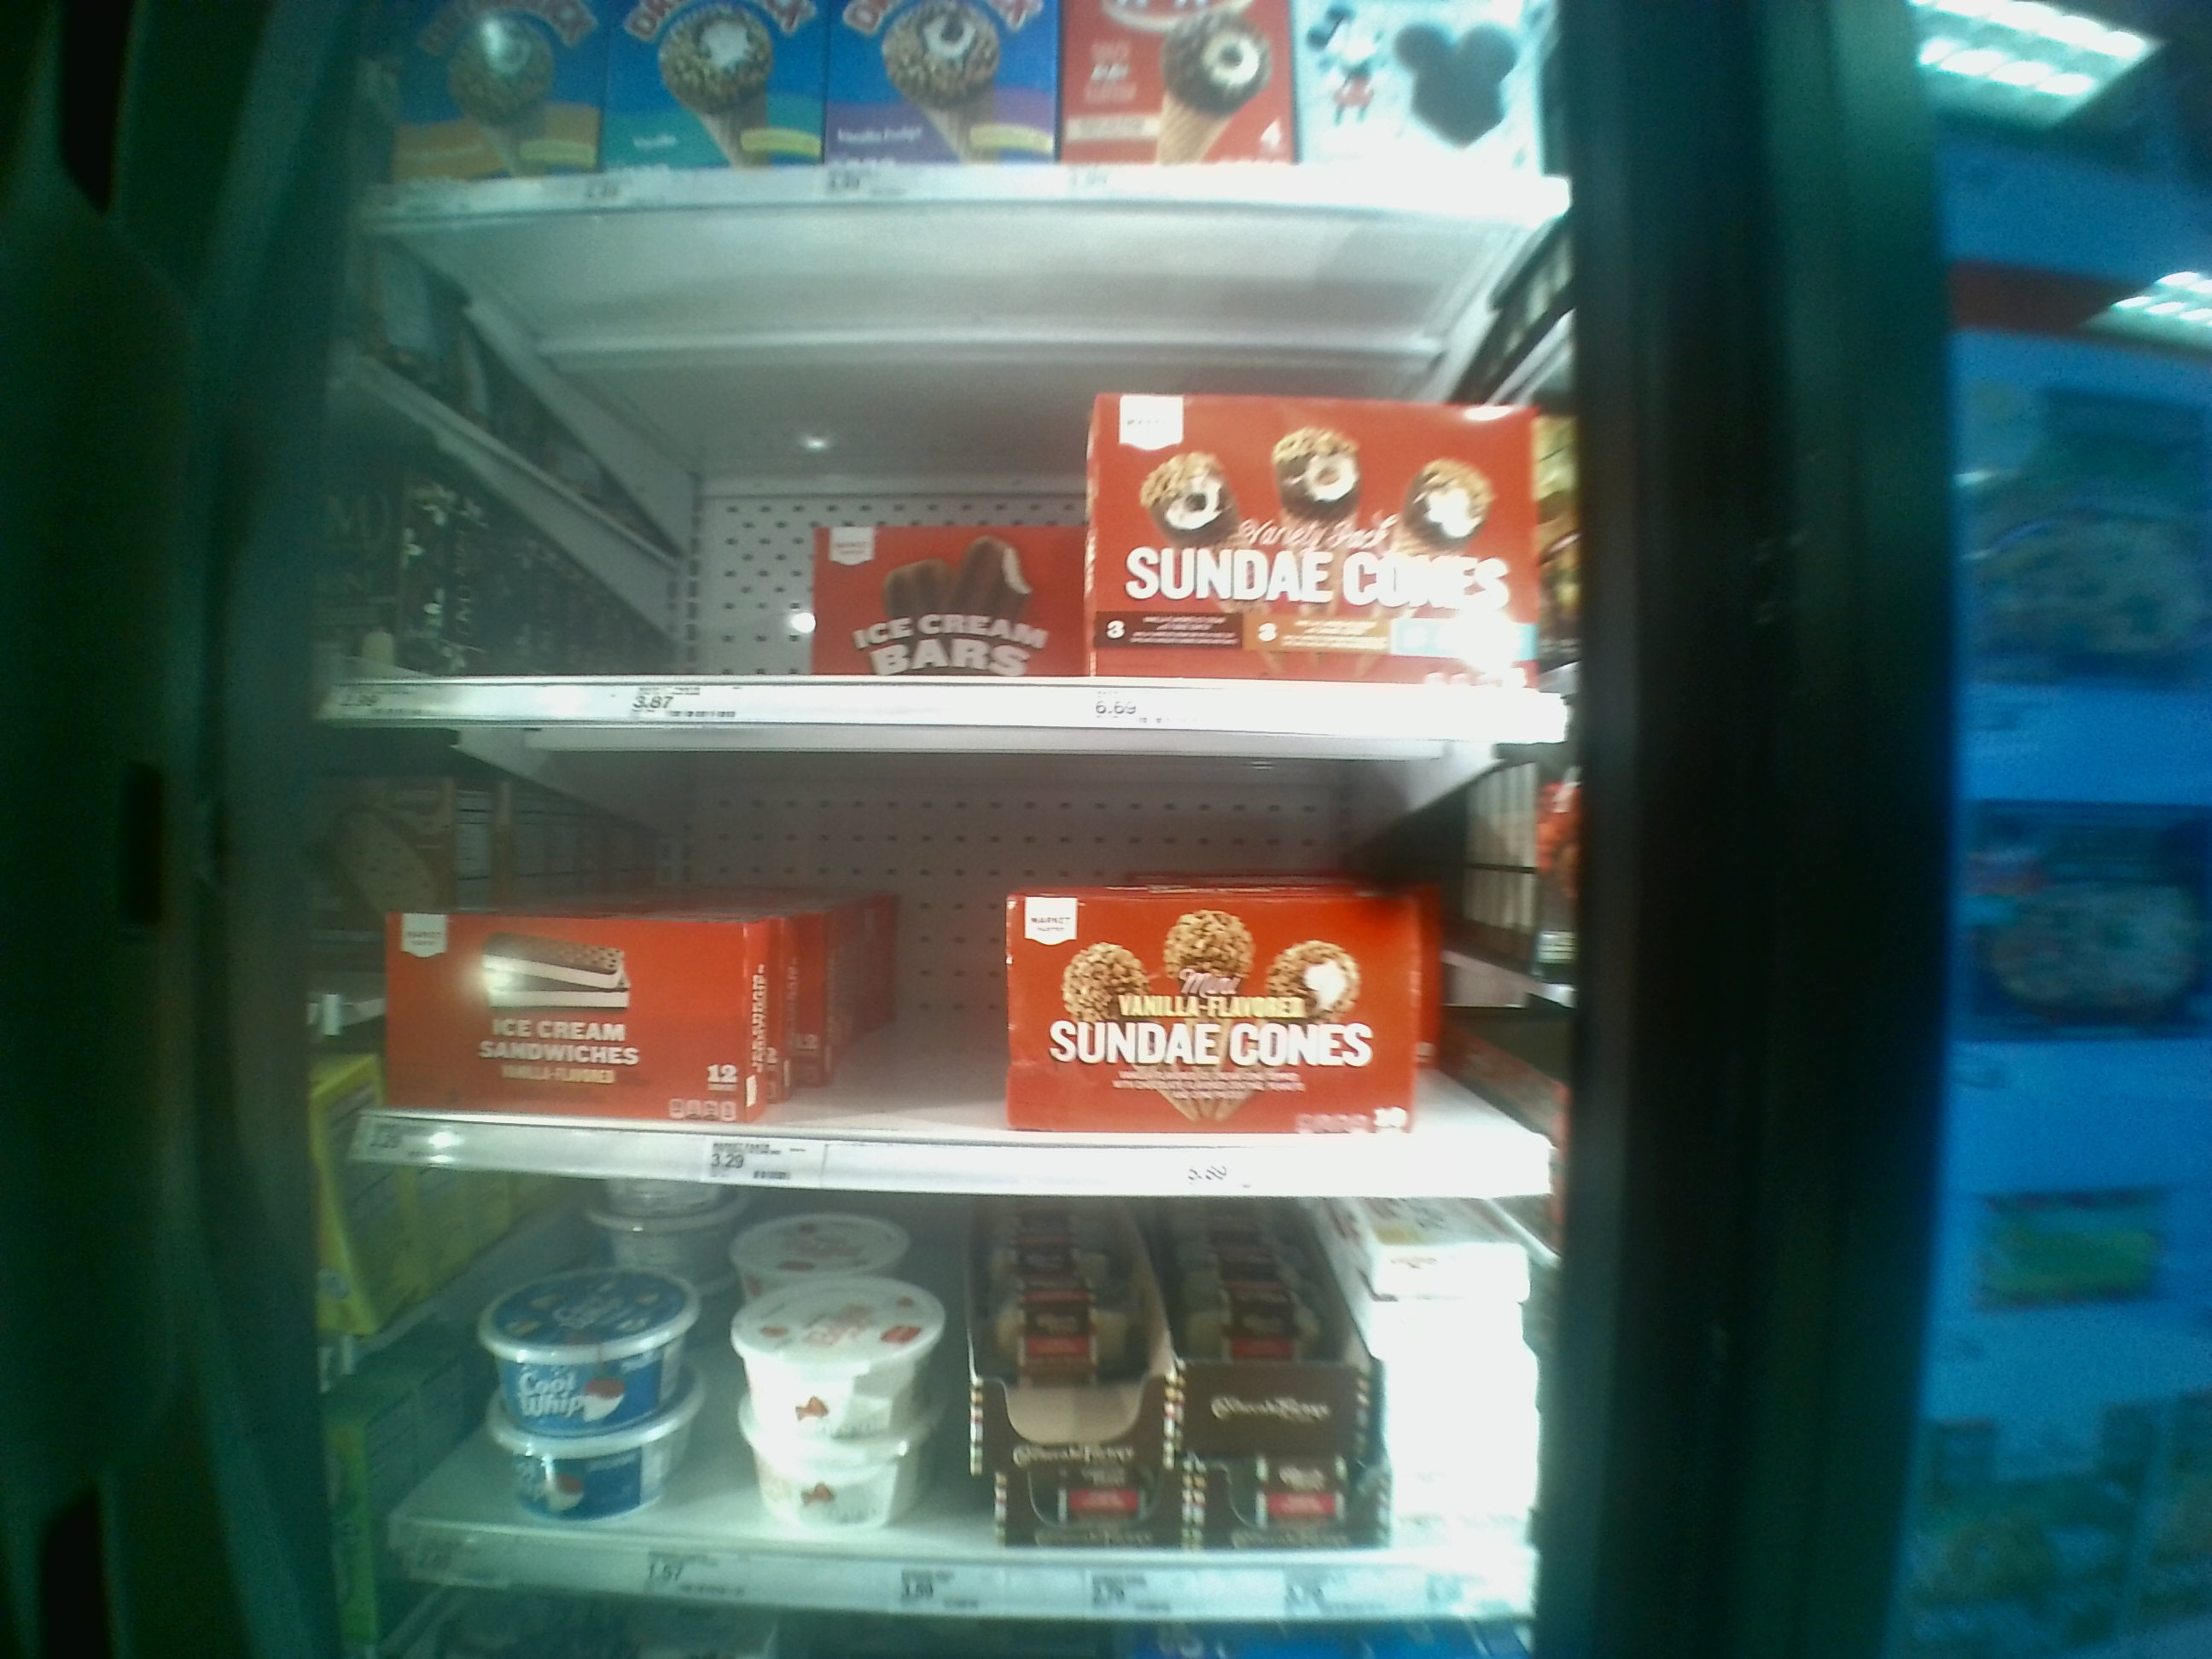frozen-food-shelf: (307, 734, 1629, 1201), (303, 275, 1623, 734), (303, 1199, 1623, 1628)
